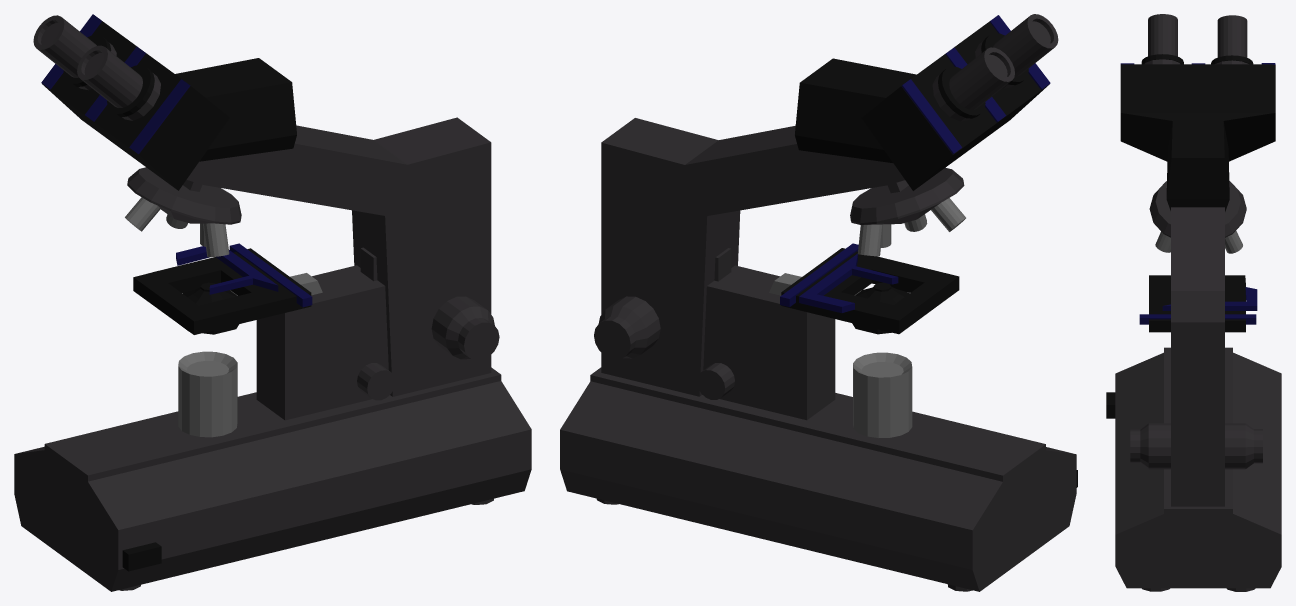
File: microscópio.fbx
3 views of the same model, side by side, from view 1: azimuth 30°, elevation 25°; view 2: azimuth 150°, elevation 25°; view 3: azimuth 270°, elevation 25° (orthographic). The views are drawn at different scales.
Parts seen in each view (by area): view 1: base, Cube, Cube.005, Cube.001, caixa, Cube.008, Cylinder.007, Cylinder.008, Cylinder.014, Cylinder.002, Cylinder.005, Cube.011 (+8 smaller); view 2: base, Cube, Cube.005, Cube.001, caixa, Cube.008, Cylinder.007, Cylinder.008, Cylinder.014, Cylinder.005, Cylinder.002, Cube.011 (+6 smaller); view 3: base, Cube, Cube.001, caixa, Cylinder.014, Cube.008, Cylinder.008, Cylinder.005, Cylinder.002, Cube.011, Cube.010, Cylinder.011 (+2 smaller).
Part boxes in pixels (x1=…): base: x1=14, y1=367, x2=531, y2=591; Cube: x1=186, y1=117, x2=491, y2=396; Cube.005: x1=256, y1=265, x2=388, y2=420; Cube.001: x1=42, y1=21, x2=229, y2=190; caixa: x1=175, y1=58, x2=296, y2=161; Cube.008: x1=133, y1=248, x2=311, y2=334; Cylinder.007: x1=178, y1=351, x2=237, y2=437; Cylinder.008: x1=127, y1=167, x2=241, y2=224; Cylinder.014: x1=431, y1=296, x2=499, y2=360; Cylinder.002: x1=77, y1=45, x2=142, y2=107; Cylinder.005: x1=33, y1=15, x2=96, y2=77; Cube.011: x1=176, y1=246, x2=278, y2=294; base: x1=560, y1=367, x2=1076, y2=591; Cube: x1=601, y1=118, x2=904, y2=396; Cube.005: x1=703, y1=265, x2=835, y2=420; Cube.001: x1=862, y1=20, x2=1049, y2=190; caixa: x1=795, y1=58, x2=916, y2=162; Cube.008: x1=781, y1=248, x2=959, y2=334; Cylinder.007: x1=853, y1=352, x2=912, y2=437; Cylinder.008: x1=850, y1=167, x2=964, y2=224; Cylinder.014: x1=594, y1=296, x2=660, y2=359; Cylinder.005: x1=949, y1=47, x2=1014, y2=109; Cylinder.002: x1=993, y1=14, x2=1058, y2=76; Cube.011: x1=799, y1=254, x2=898, y2=313; base: x1=1115, y1=347, x2=1281, y2=588; Cube: x1=1171, y1=207, x2=1224, y2=506; Cube.001: x1=1120, y1=64, x2=1275, y2=161; caixa: x1=1166, y1=120, x2=1229, y2=211; Cylinder.014: x1=1130, y1=423, x2=1262, y2=469; Cube.008: x1=1149, y1=275, x2=1245, y2=332; Cylinder.008: x1=1149, y1=181, x2=1246, y2=237; Cylinder.005: x1=1217, y1=15, x2=1247, y2=57; Cylinder.002: x1=1148, y1=14, x2=1177, y2=56; Cube.011: x1=1162, y1=287, x2=1257, y2=310; Cube.010: x1=1139, y1=314, x2=1256, y2=324; Cylinder.011: x1=1225, y1=230, x2=1242, y2=253.
Bounding box in the file's own units: 803 × 975 × 362.
